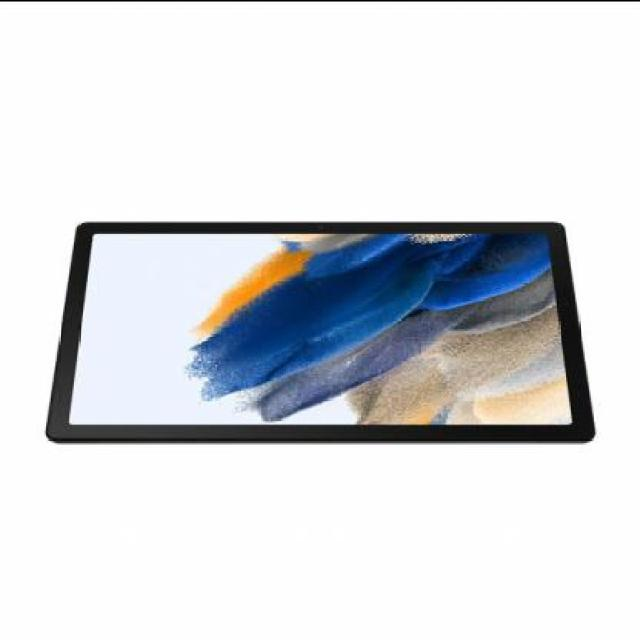tablet: (60, 196, 611, 457)
